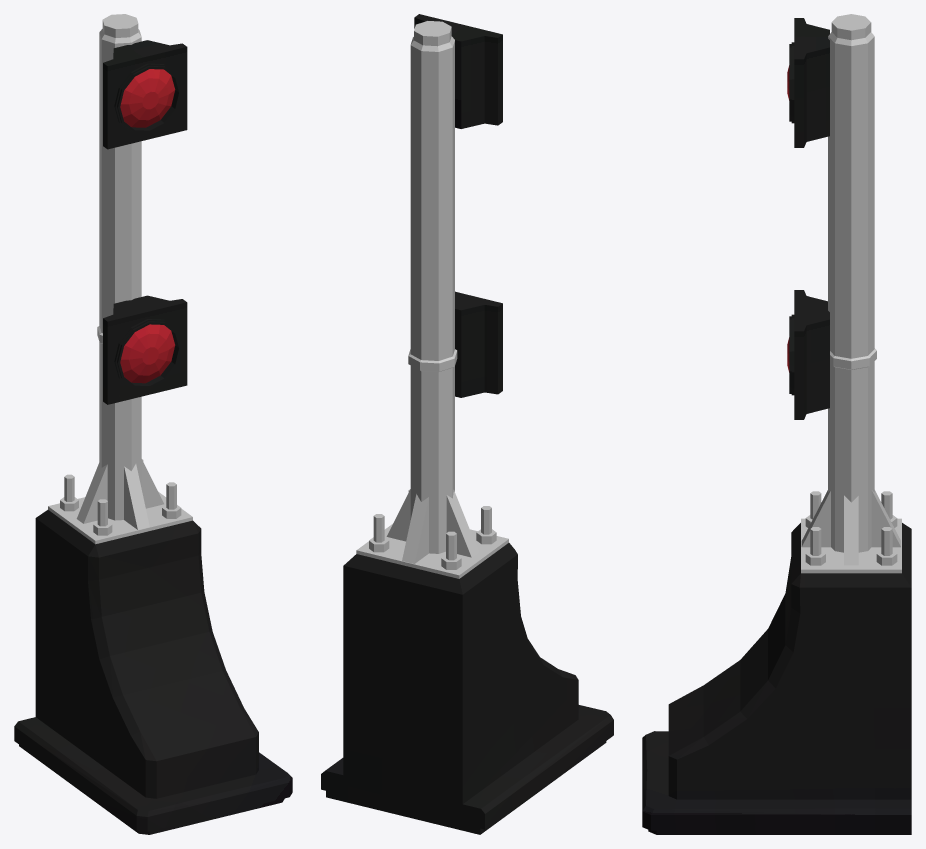
File: Highway_Segment_TrafficBarrier00.fbx
3 views of the same model, side by side, from view 1: azimuth 30°, elevation 25°; view 2: azimuth 150°, elevation 25°; view 3: azimuth 270°, elevation 25° (orthographic). The views are drawn at different scales.
Visible parts, largest first — view 1: SM_City_Highway_TrafficBarrier_01a.mo; view 2: SM_City_Highway_TrafficBarrier_01a.mo; view 3: SM_City_Highway_TrafficBarrier_01a.mo.
Part boxes in pixels (x1,y1,x2,y2): SM_City_Highway_TrafficBarrier_01a.mo: (14,14,292,834); SM_City_Highway_TrafficBarrier_01a.mo: (321,14,613,834); SM_City_Highway_TrafficBarrier_01a.mo: (642,14,911,834).
Bounding box in the file's own units: 87.51 × 390 × 123.
